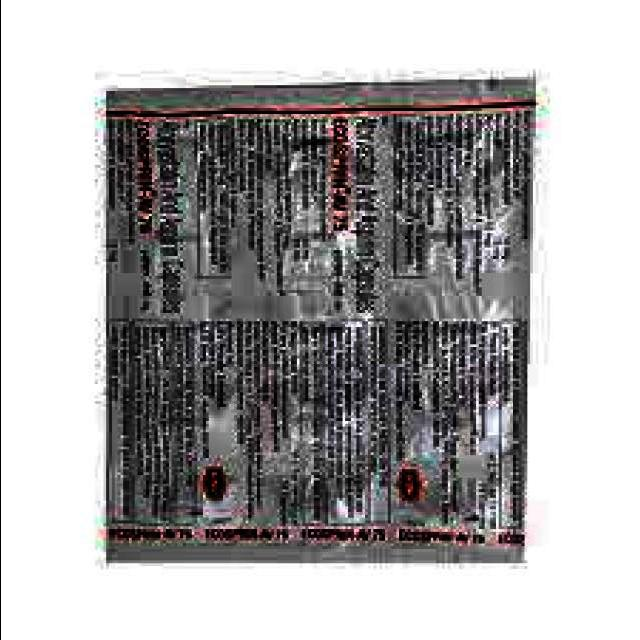authentic: (92, 71, 546, 580)
